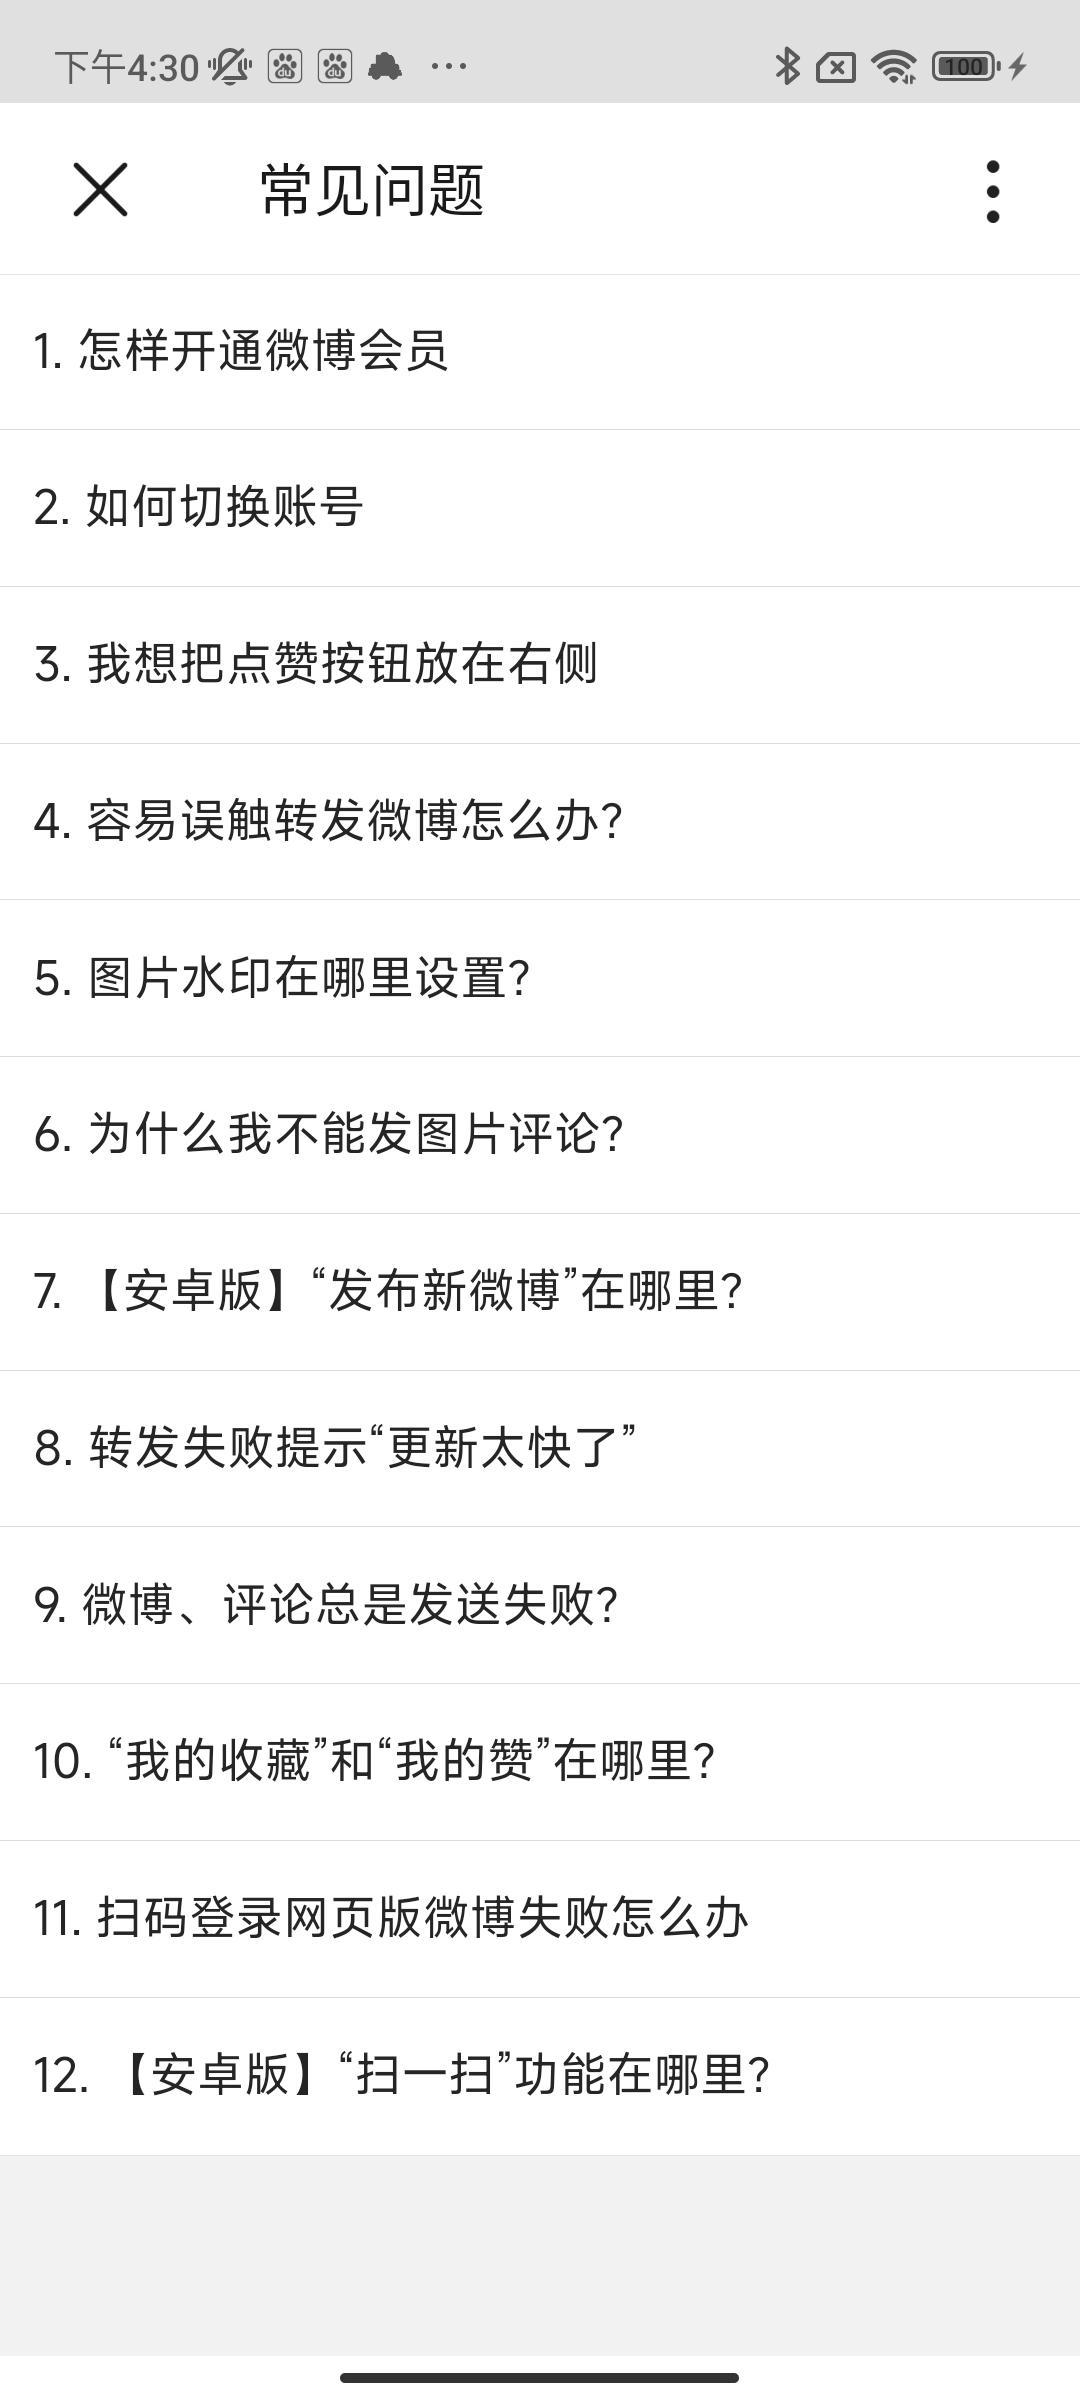ui_group: (9, 295, 1030, 422), (14, 1537, 877, 1685), (3, 1843, 873, 1982), (12, 1076, 873, 1215), (14, 1238, 869, 1368), (8, 915, 855, 1042), (11, 1707, 875, 1831), (20, 1394, 880, 1512), (17, 761, 829, 876), (12, 603, 835, 715), (18, 458, 835, 566), (15, 2027, 887, 2121)
